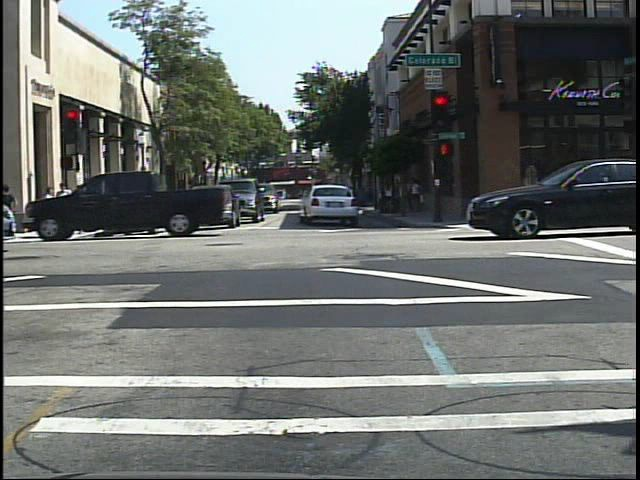person: (143, 181, 161, 218), (91, 187, 106, 228), (147, 180, 164, 216)
